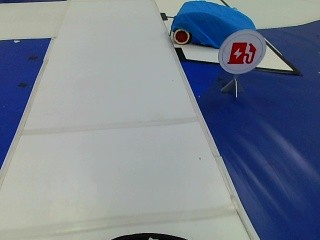battery: (220, 31, 263, 74)
car: (167, 3, 257, 47)
